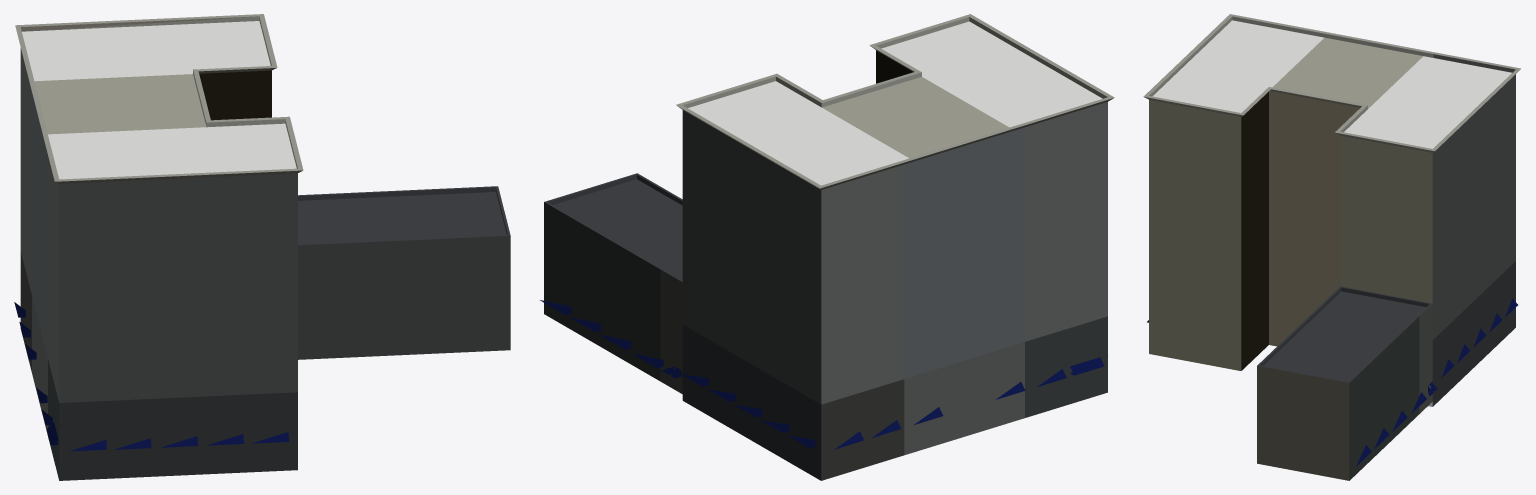
Rendered from volunteer-state-life-building.glb.
The picture shows the model from 3 angles, left to right: view 1: azimuth 30°, elevation 25°; view 2: azimuth 150°, elevation 25°; view 3: azimuth 270°, elevation 25°; orthographic projection. The views are drawn at different scales.
Visible parts, largest first — view 1: LOD0; view 2: LOD0; view 3: LOD0.
Part boxes in pixels (<box>): LOD0: <box>14,14,510,480</box>; LOD0: <box>540,14,1114,480</box>; LOD0: <box>1143,14,1521,480</box>.
Size of what is drawn, in the model's own units: 71.56 by 40.08 by 53.24.
2 materials, 2 textured.
